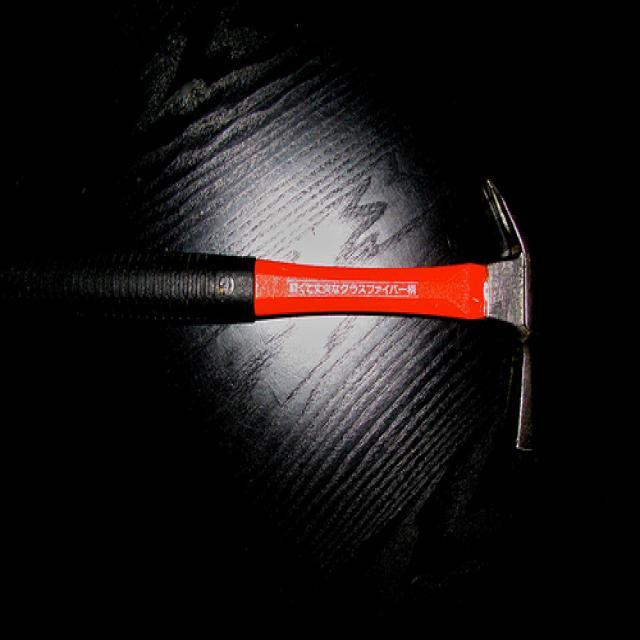hammer: (16, 169, 556, 461)
